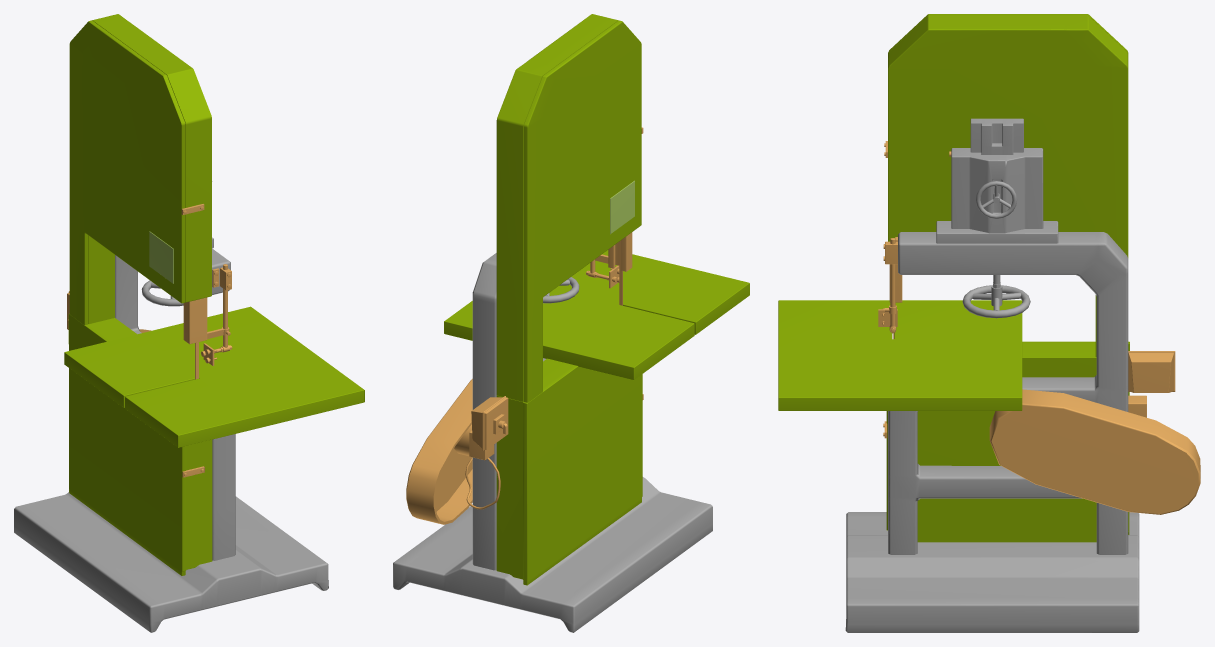
File: XiMu.fbx
The picture shows the model from 3 angles, left to right: view 1: azimuth 30°, elevation 25°; view 2: azimuth 150°, elevation 25°; view 3: azimuth 270°, elevation 25°; orthographic projection. The views are drawn at different scales.
Visible parts, largest first — view 1: polySurface36, polySurface27, polySurface4, polySurface7, polySurface12, polySurface35; view 2: polySurface36, polySurface7, polySurface27, polySurface4, pCube7, polySurface32, polySurface35, polySurface12; view 3: polySurface27, polySurface36, polySurface4, pCube7, polySurface7, polySurface32, polySurface29, polySurface37, polySurface22.
Boxes of the visible parts, left/top/right/bottom form: polySurface36: left=69, top=14, right=211, bottom=324; polySurface27: left=14, top=248, right=328, bottom=632; polySurface4: left=64, top=306, right=364, bottom=447; polySurface7: left=68, top=313, right=212, bottom=575; polySurface12: left=183, top=297, right=207, bottom=344; polySurface35: left=149, top=231, right=173, bottom=283; polySurface36: left=496, top=14, right=641, bottom=402; polySurface7: left=496, top=358, right=642, bottom=585; polySurface27: left=393, top=253, right=712, bottom=632; polySurface4: left=444, top=250, right=749, bottom=380; pCube7: left=406, top=379, right=472, bottom=524; polySurface32: left=471, top=396, right=508, bottom=450; polySurface35: left=610, top=180, right=634, bottom=234; polySurface12: left=608, top=232, right=632, bottom=271; polySurface27: left=845, top=118, right=1139, bottom=632; polySurface36: left=888, top=14, right=1128, bottom=357; polySurface4: left=778, top=300, right=1022, bottom=410; pCube7: left=989, top=389, right=1200, bottom=514; polySurface7: left=886, top=341, right=1129, bottom=542; polySurface32: left=1128, top=351, right=1175, bottom=392; polySurface29: left=936, top=221, right=1058, bottom=243; polySurface37: left=962, top=275, right=1030, bottom=318; polySurface22: left=976, top=181, right=1016, bottom=218.
Bounding box in the file's own units: 76.64 × 203 × 140.
